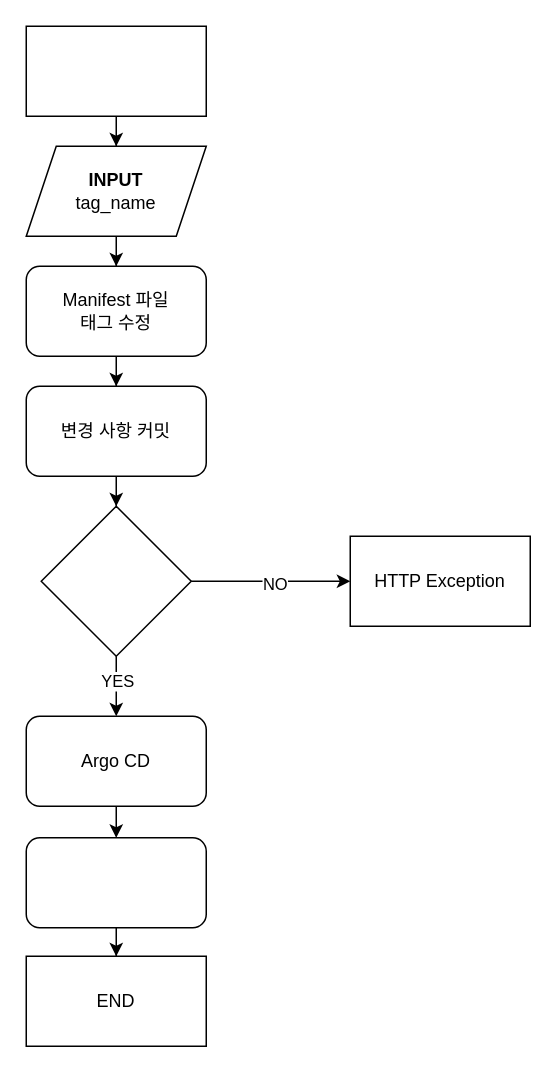
Some shapes in this 557 by 1073 pixel diagram are drawn without their labels. The shapes that lost their labels are listed below. From the top down, each one's centre as x and y in pixels, then its label:
At point 115,70: "START".
At point 115,580: "커밋 성공 여부".
At point 115,882: "K8s App Deploy".
